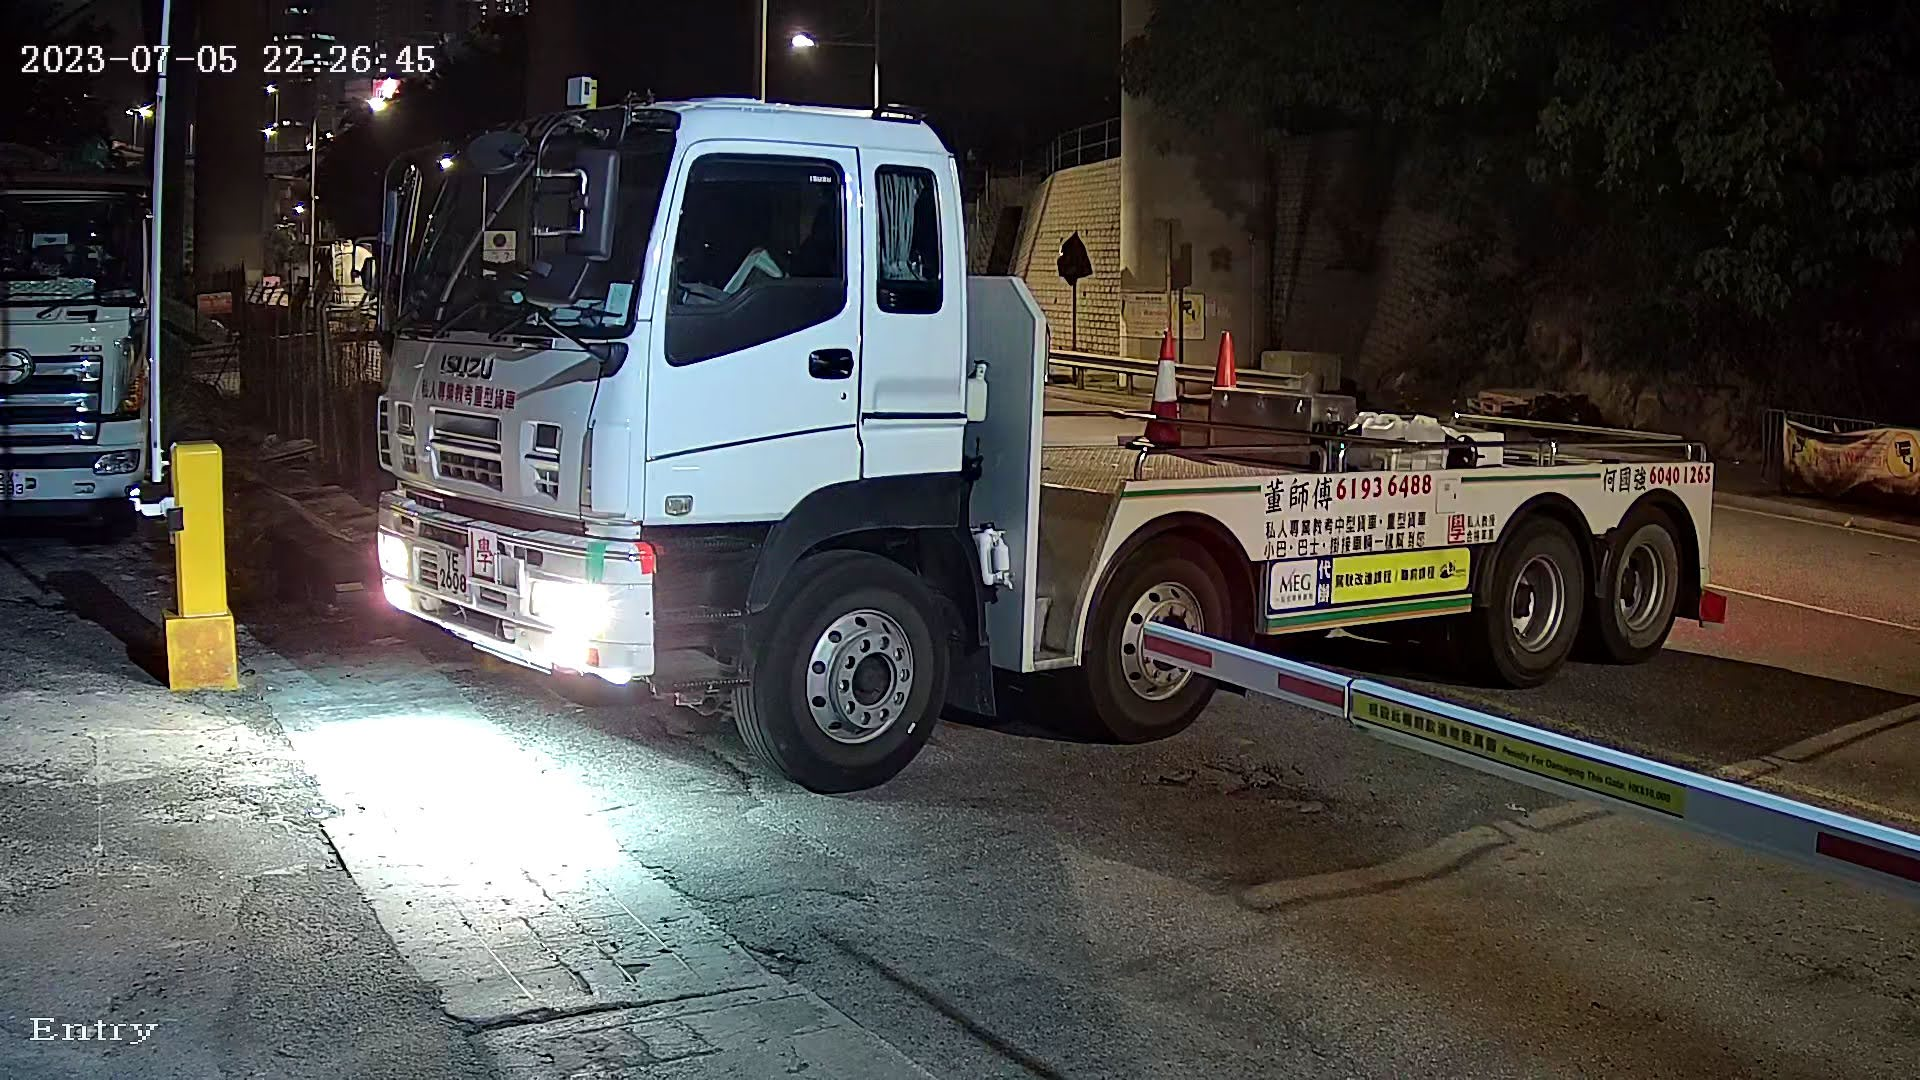truck_large: (334, 7, 1774, 822)
